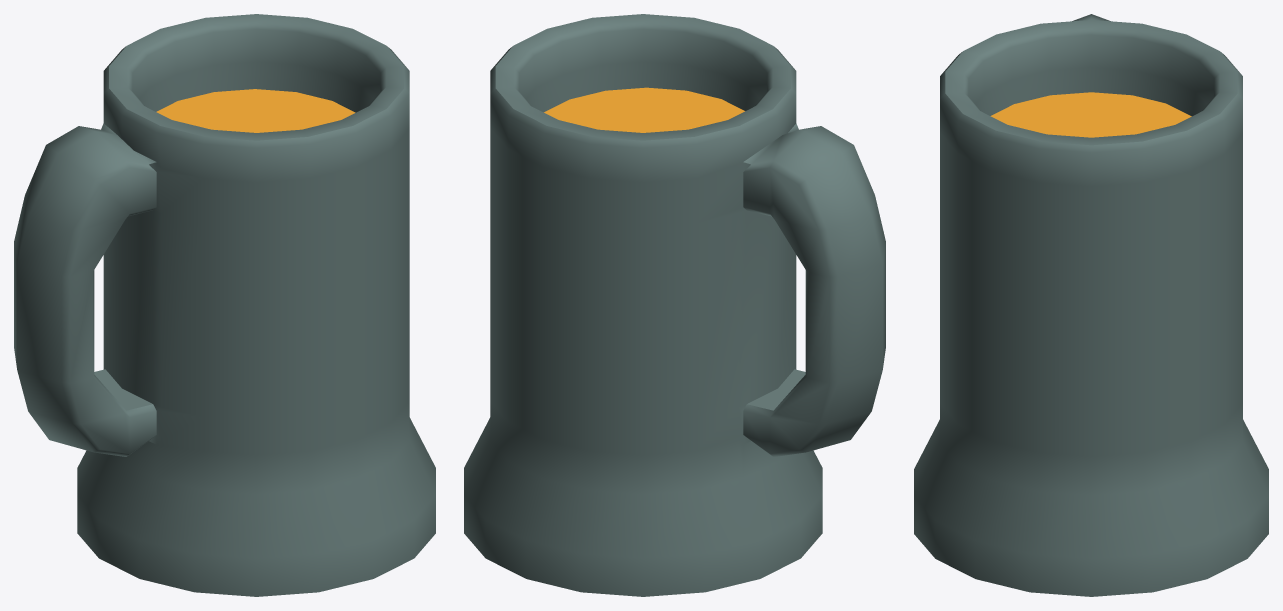
File: mug_full.fbx
3 views of the same model, side by side, from view 1: azimuth 30°, elevation 25°; view 2: azimuth 150°, elevation 25°; view 3: azimuth 270°, elevation 25° (orthographic).
Visible parts, largest first — view 1: Cylinder048; view 2: Cylinder048; view 3: Cylinder048.
Boxes of the visible parts, box(x1,y1,x2,y2) form: Cylinder048: box(14, 14, 435, 596); Cylinder048: box(464, 14, 885, 596); Cylinder048: box(914, 14, 1268, 596).
Bounding box in the file's own units: 70.61 × 75.21 × 55.21.
